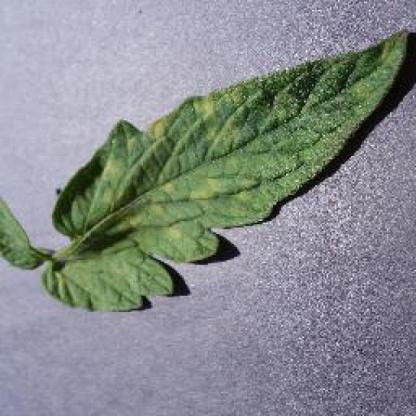Tomato_Leaf_Mold: (45, 28, 411, 313)
